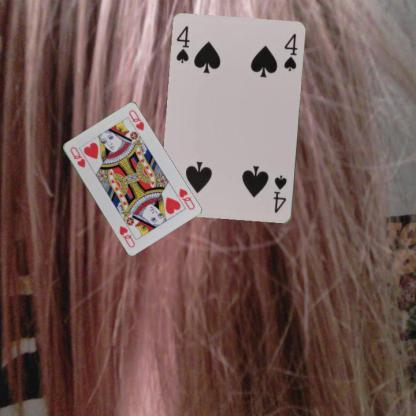4s: (270, 172, 288, 214), (174, 24, 192, 64)
Qh: (67, 144, 87, 169), (176, 186, 196, 210)
